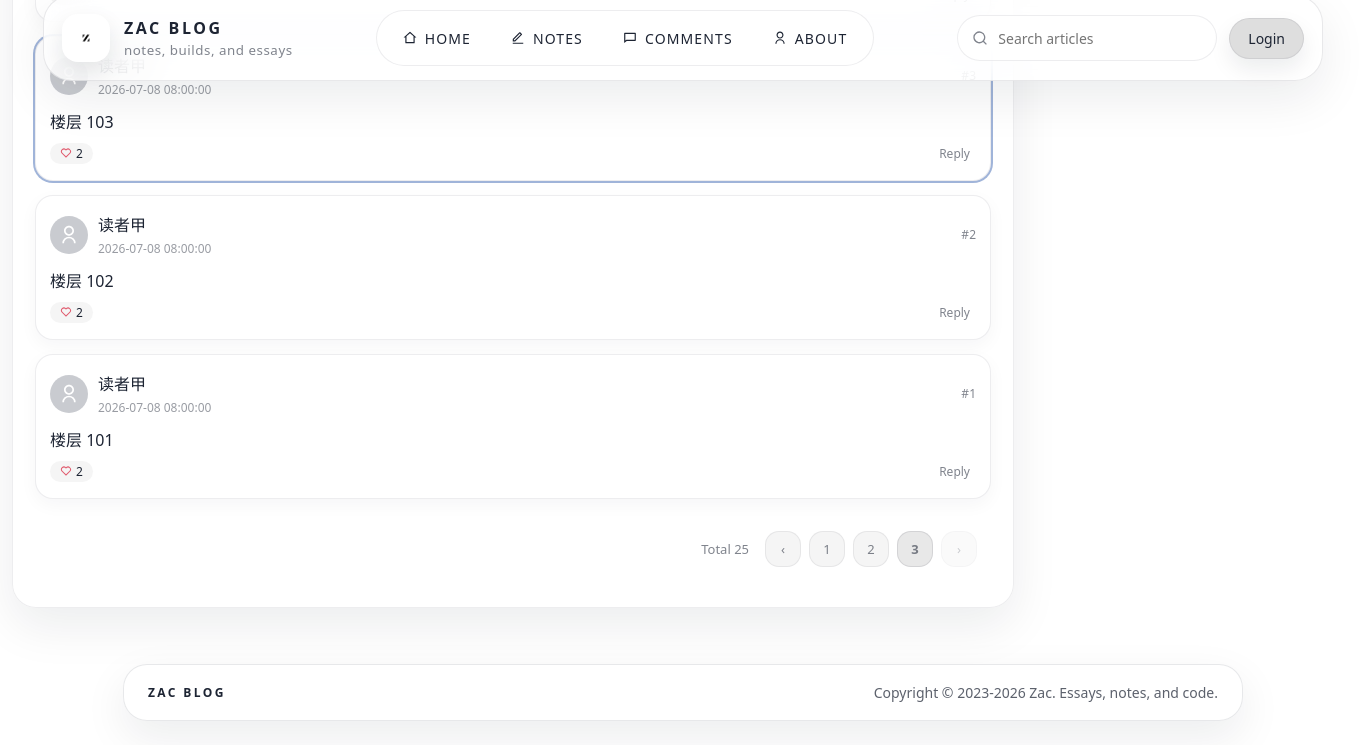
Test: PostPage › locating ?commentId= beyond the first page › still lets the reader page normally afterwards
(page scrolled)
Check: the text "楼层 103" is shown, box top-left (50, 111), bottom-right (114, 133)
Click the button "1": (827, 549) top-left (809, 531), bottom-right (845, 567)
(page scrolled)
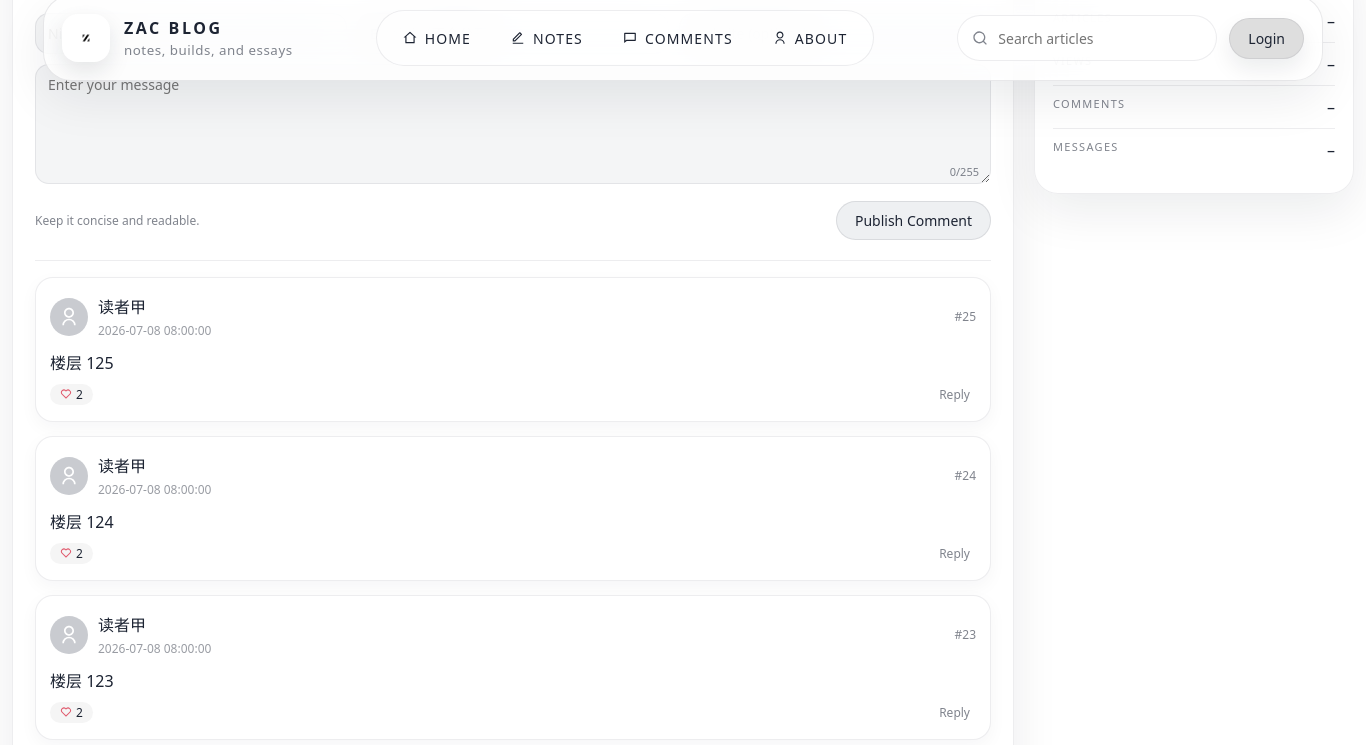
Check: the text "楼层 125" is shown, box top-left (50, 352), bottom-right (114, 374)
